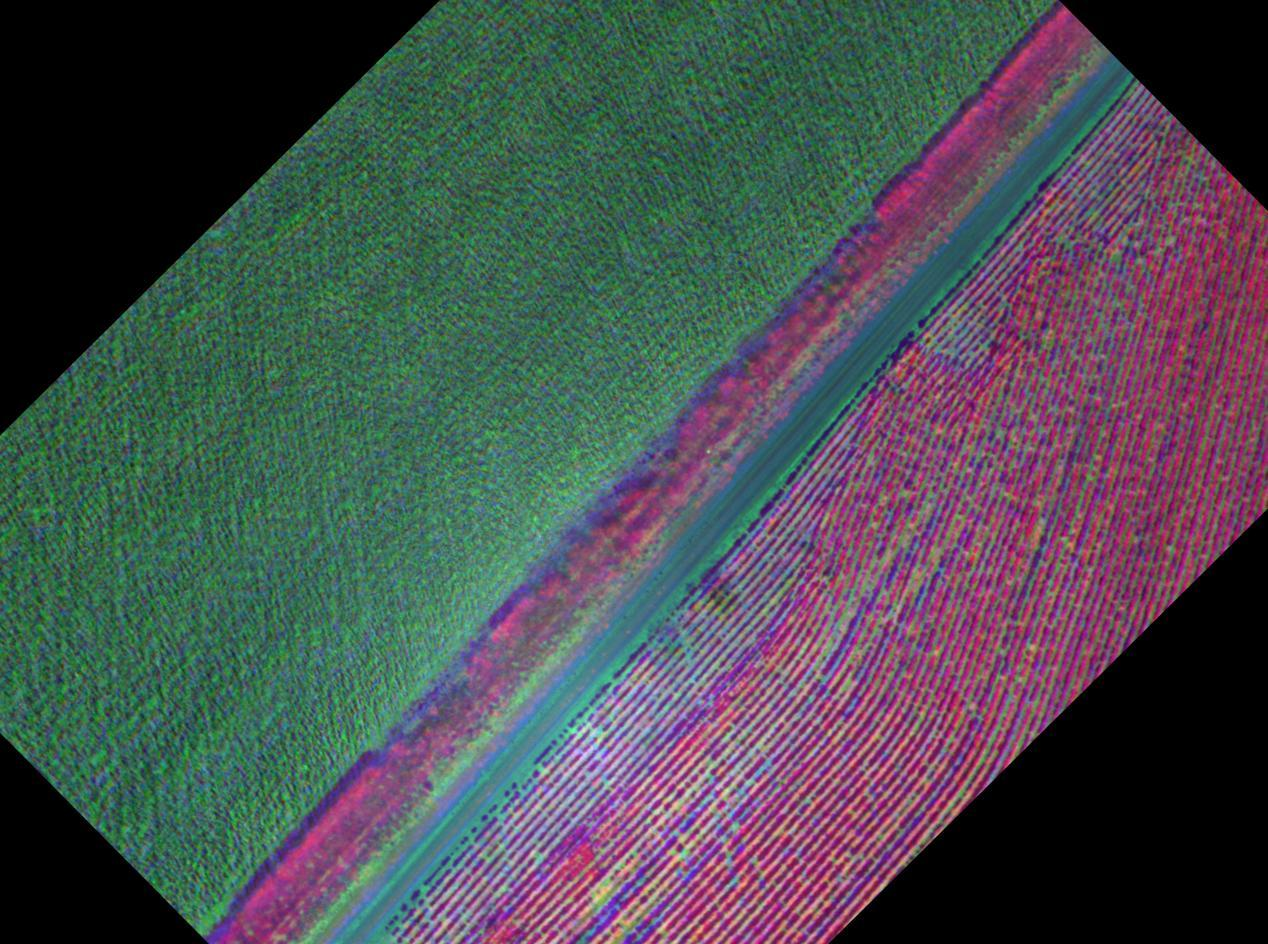dc: (593, 894, 603, 904), (1168, 236, 1174, 245), (604, 882, 611, 889), (729, 825, 738, 830), (679, 851, 686, 857), (752, 859, 757, 864), (624, 926, 629, 931), (1184, 156, 1188, 160)
